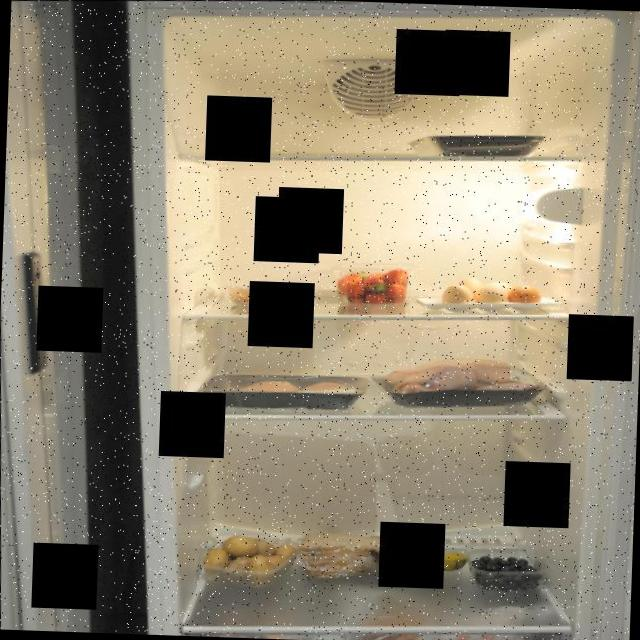Carne pollo: (374, 344, 556, 411), (196, 366, 368, 414)
Gambas/Langostinos: (224, 280, 304, 307)
Huevos: (436, 270, 543, 316)
Patata: (198, 530, 298, 588)
Plátano: (363, 528, 473, 584)
blueberries: (462, 538, 553, 596)
bread: (296, 527, 396, 582)
strawberries: (334, 264, 410, 306)
